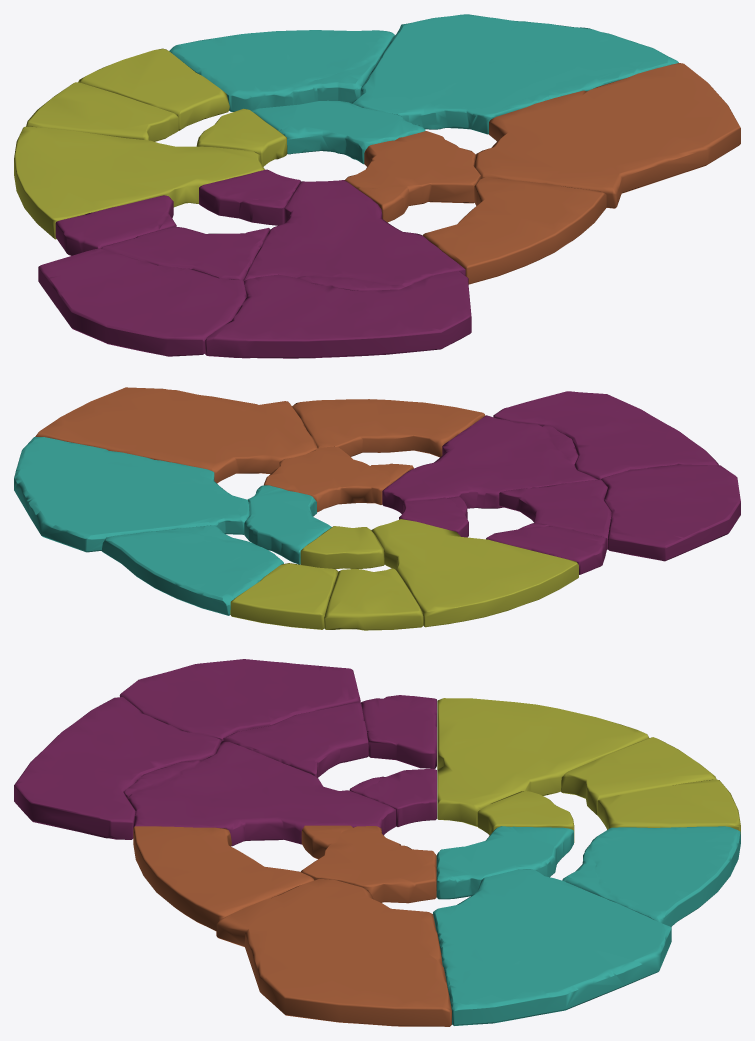
File: SM_ArenaFloor01.fbx
3 renders of one model, top to bottom at view 1: azimuth 30°, elevation 25°; view 2: azimuth 150°, elevation 25°; view 3: azimuth 270°, elevation 25°, orthographic. The views are drawn at different scales.
Parts seen in each view (by area): view 1: SM_ArenaFloor01; view 2: SM_ArenaFloor01; view 3: SM_ArenaFloor01.
Boxes of the visible parts, x1,y1,x2,y2 form: SM_ArenaFloor01: (14,14,740,358); SM_ArenaFloor01: (14,387,740,630); SM_ArenaFloor01: (14,659,740,1026).
Bounding box in the file's own units: 3822 × 112 × 3348.
